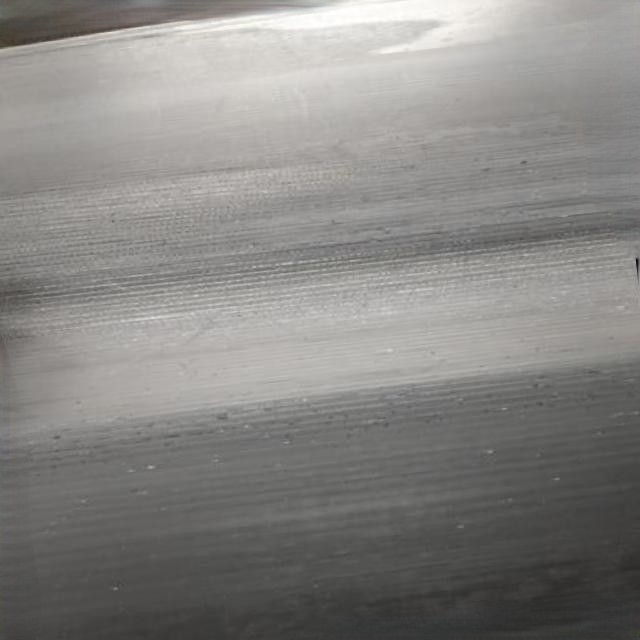Wear: (0, 192, 640, 356)
